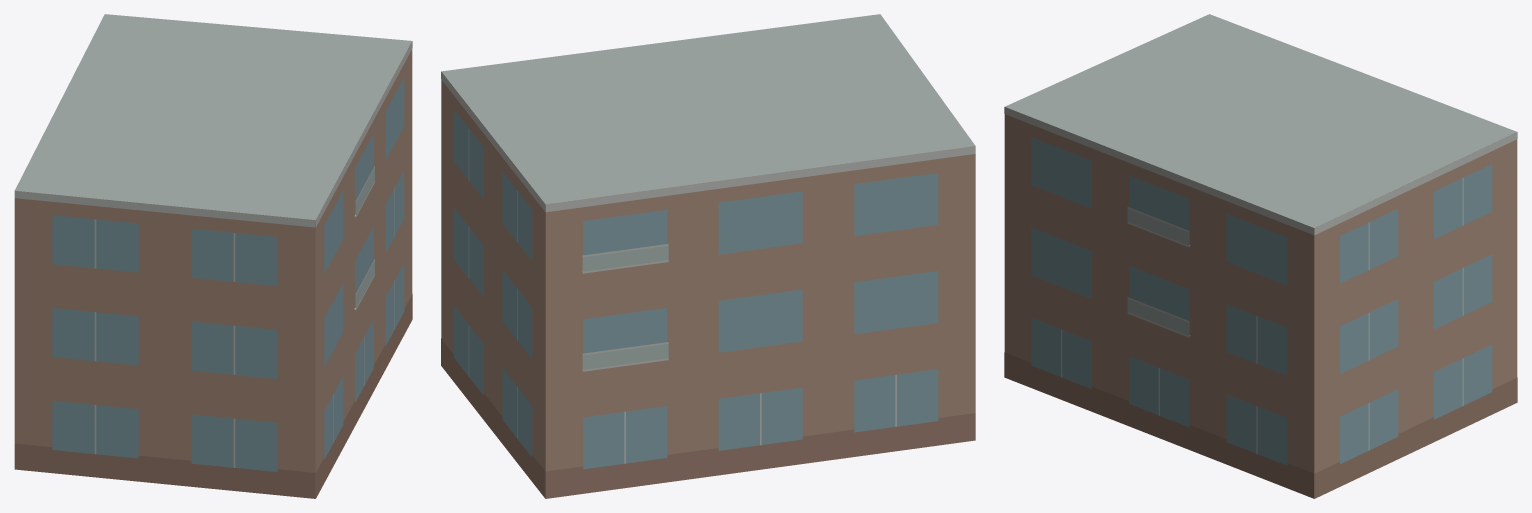
File: survey-upis-32698040.glb
The picture shows the model from 3 angles, left to right: view 1: azimuth 30°, elevation 25°; view 2: azimuth 150°, elevation 25°; view 3: azimuth 270°, elevation 25°; orthographic projection. The views are drawn at different scales.
Parts seen in each view (by area): view 1: survey-upis-32698040.tmp; view 2: survey-upis-32698040.tmp; view 3: survey-upis-32698040.tmp.
Boxes of the visible parts, <box> form: survey-upis-32698040.tmp: <box>14,14,412,498</box>; survey-upis-32698040.tmp: <box>441,14,975,498</box>; survey-upis-32698040.tmp: <box>1004,14,1517,498</box>.
Bounding box in the file's own units: 15.53 × 9.15 × 15.72.
